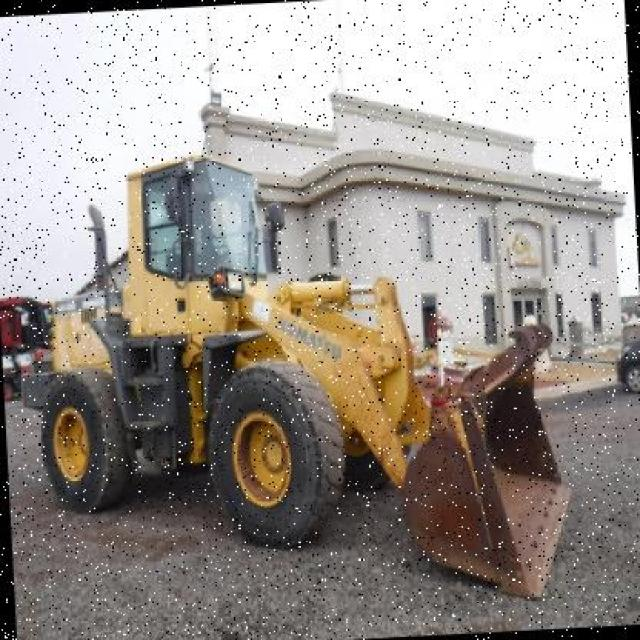buldozerpayloadergrader: (7, 128, 587, 623)
